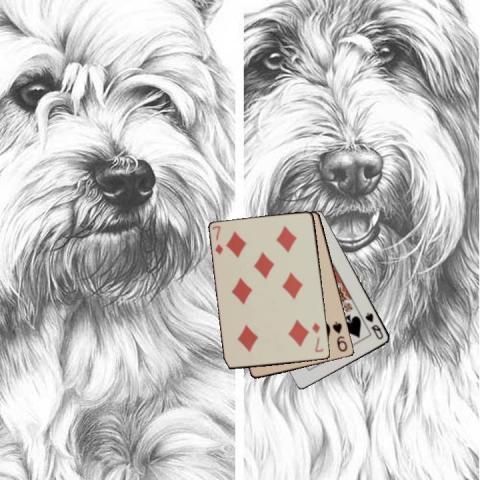7d: (309, 320, 325, 354), (209, 223, 224, 256)
9s: (329, 318, 349, 353)
Qs: (363, 309, 385, 341)
